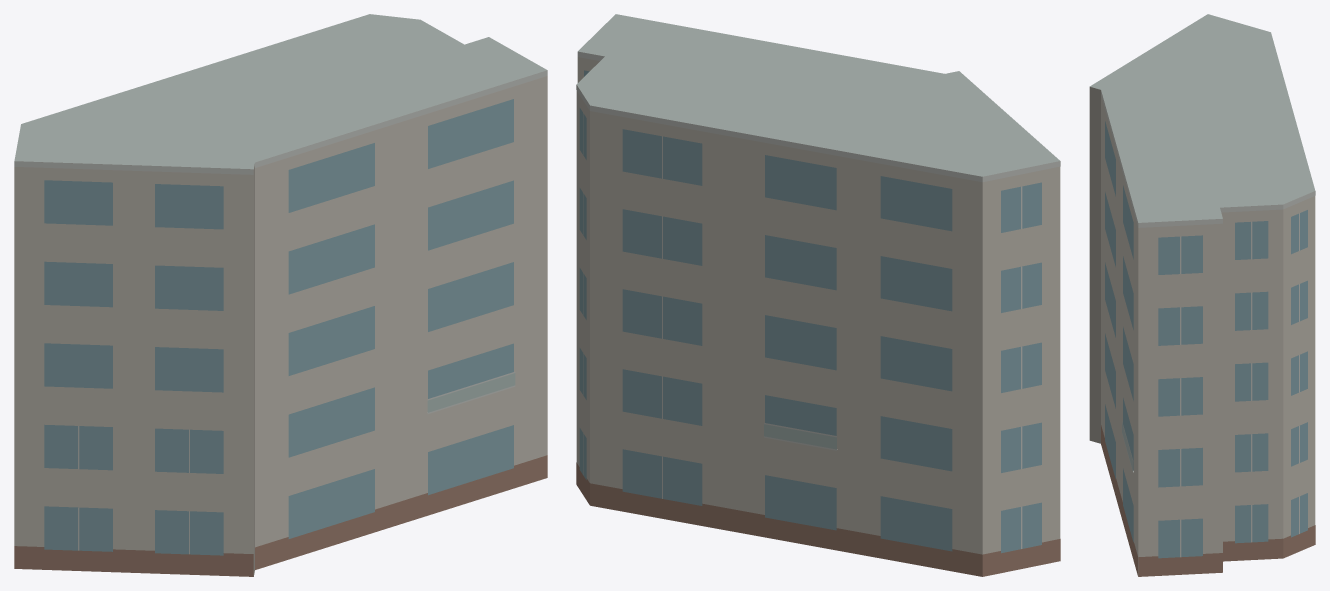
The model's file is survey-upis-33025650.glb.
3 renders of one model, left to right at view 1: azimuth 30°, elevation 25°; view 2: azimuth 150°, elevation 25°; view 3: azimuth 270°, elevation 25°, orthographic. The views are drawn at different scales.
Visible parts, largest first — view 1: survey-upis-33025650.tmp; view 2: survey-upis-33025650.tmp; view 3: survey-upis-33025650.tmp.
Boxes of the visible parts, x1=… form: survey-upis-33025650.tmp: x1=14, y1=14, x2=547, y2=576; survey-upis-33025650.tmp: x1=576, y1=14, x2=1060, y2=576; survey-upis-33025650.tmp: x1=1089, y1=14, x2=1315, y2=576.
Size of the model in its own units: 22.17 by 17.5 by 10.13.
